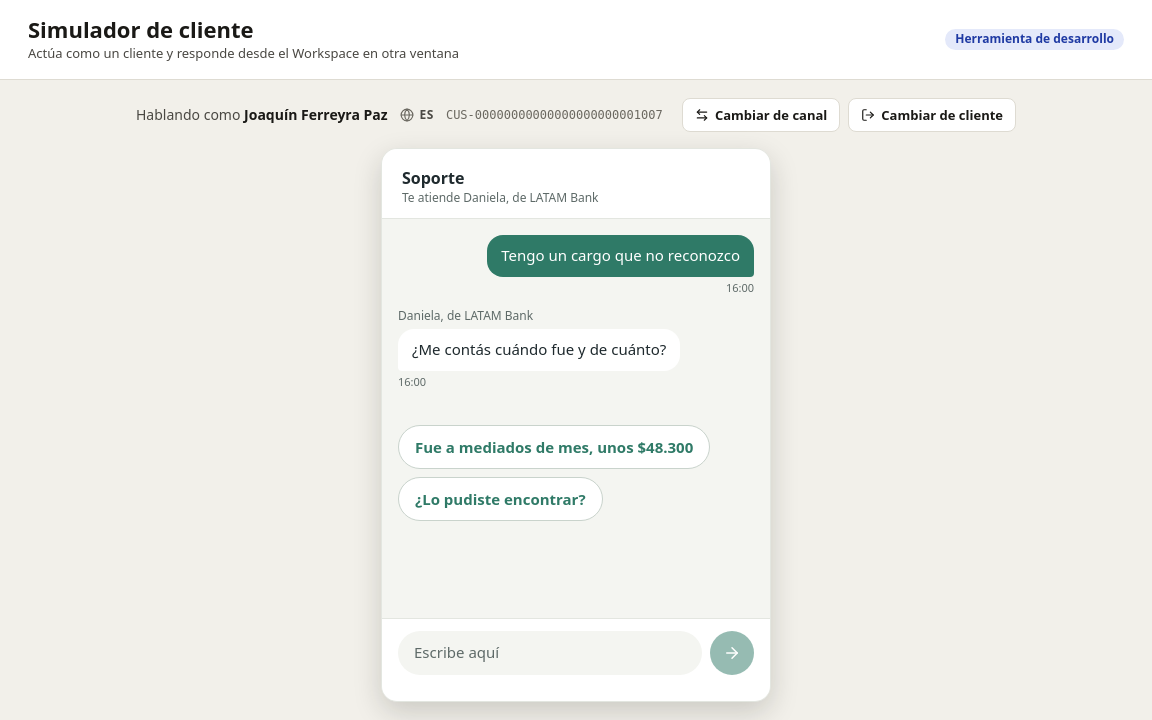
CustomerSimulatorScreen · chat › offers an open chat's follow-up chips (Joaquín, with_agent)
Expected: the text "Te atiende Daniela, de LATAM Bank" is shown, [402, 189, 598, 206]
Click the button "Fue a mediados de mes, unos $48.300" at (554, 447), box [398, 425, 710, 469]
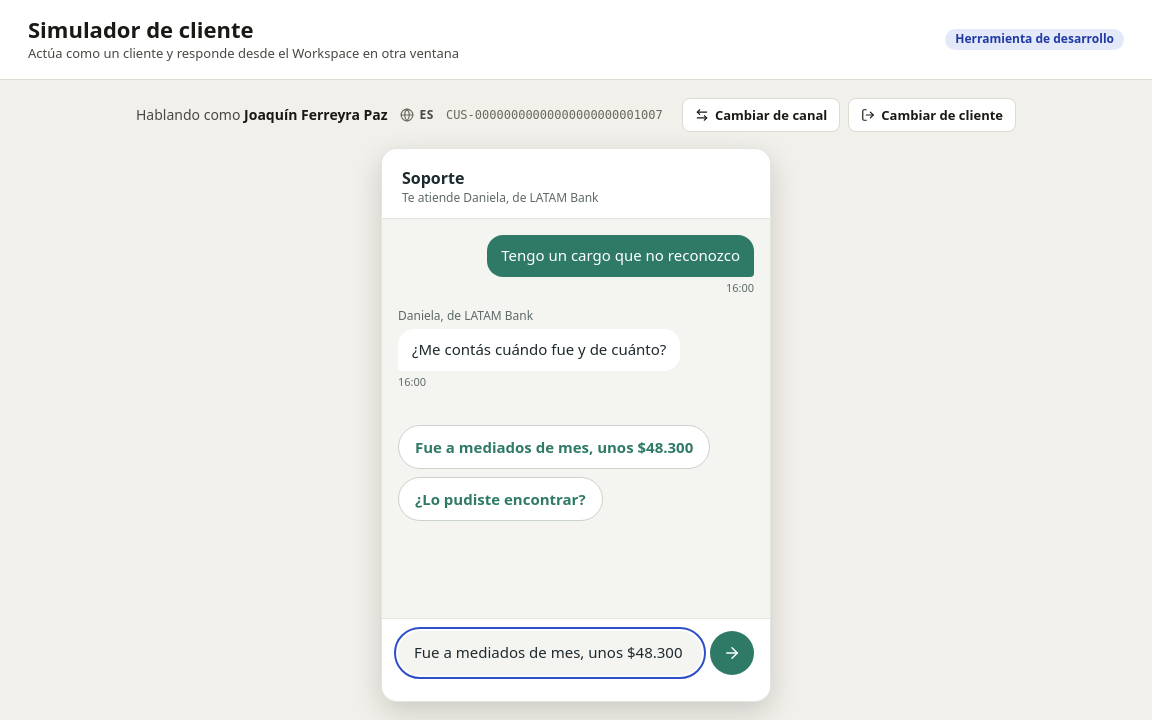
Expected: the button "¿Lo pudiste encontrar?" is shown, [398, 477, 603, 521]
Now the field named "Escribe tu mensaje" holds "Fue a mediados de mes, unos $48.300", box [398, 631, 702, 675]
